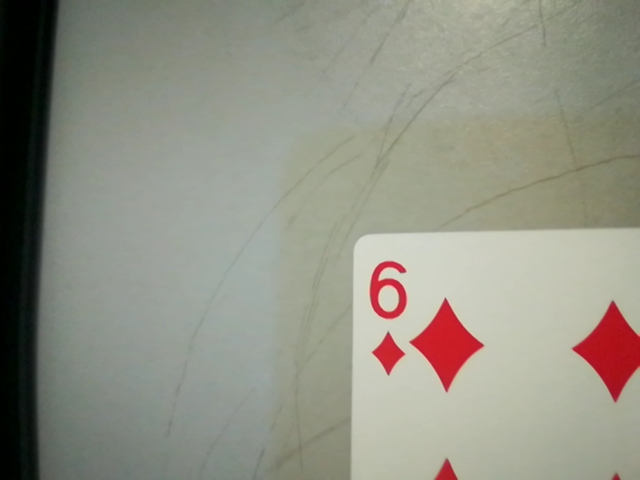fk 6: (355, 253, 417, 380)
